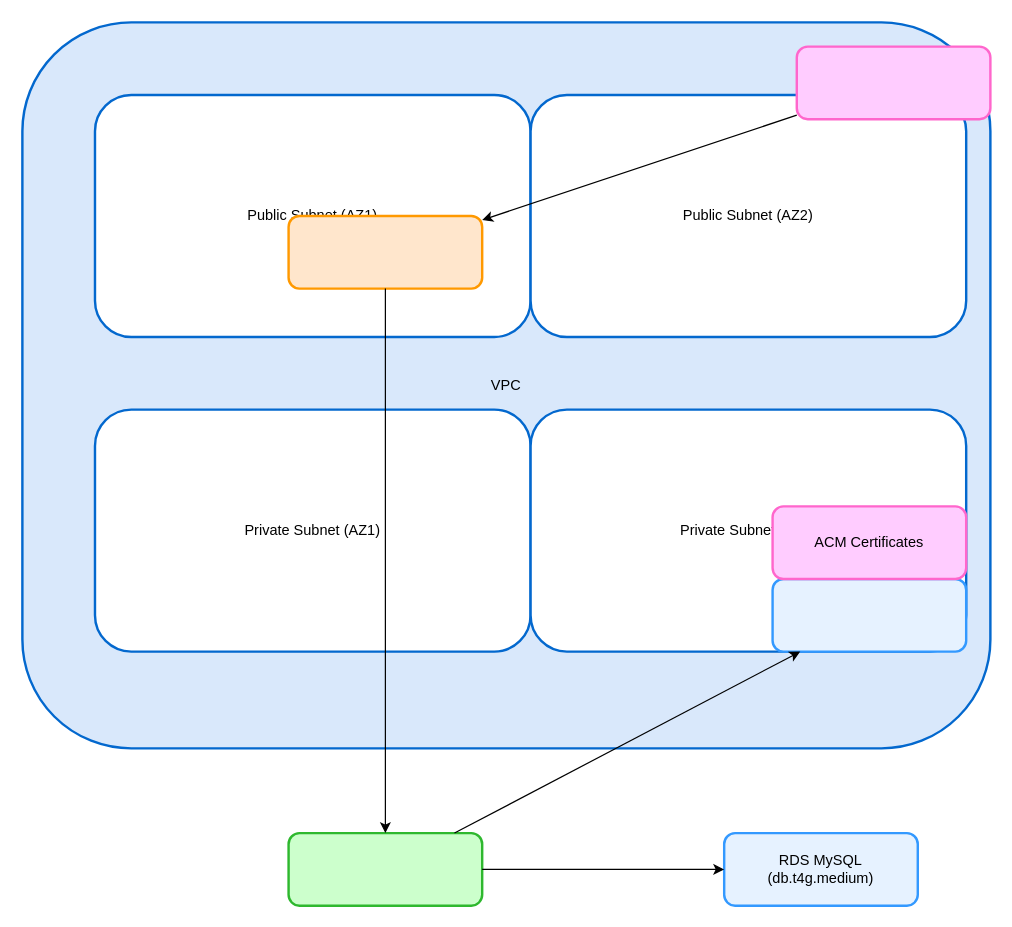
Image size: 1012x927. Some labels were removed from this diagram. The shapes that lost their labels are listed below. From the top down, each one's centre as x and y in pixels, then its label:
At point 893,82: "Route 53".
At point 385,251: "Elastic Load Balancer".
At point 869,614: "S3 Bucket".
At point 385,868: "ECS Cluster (Fargate)".
